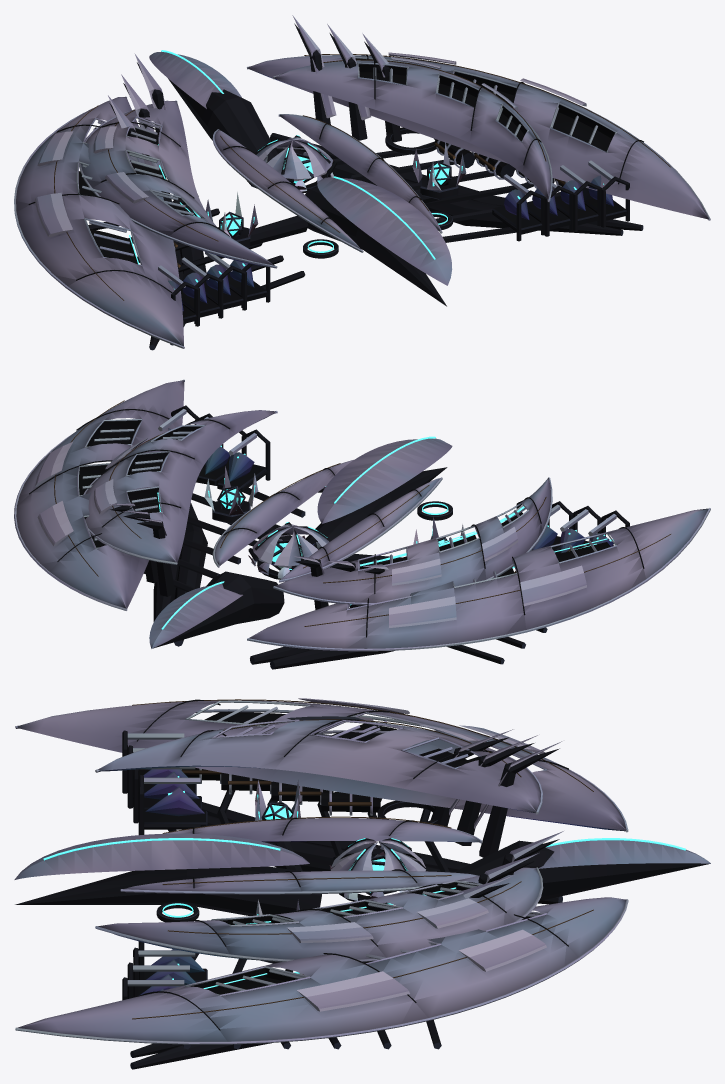
Rendered from the-veil-v2-carrier.glb.
The picture shows the model from 3 angles, top to bottom: view 1: azimuth 30°, elevation 25°; view 2: azimuth 150°, elevation 25°; view 3: azimuth 270°, elevation 25°; orthographic projection. The views are drawn at different scales.
Parts seen in each view (by area): view 1: veil_hull, veil_pod_right, veil_pod_left, veil_heart_shutter_3, veil_heart_shutter_0; view 2: veil_hull, veil_pod_right, veil_heart_shutter_2, veil_heart_shutter_1, veil_heart; view 3: veil_hull, veil_pod_left, veil_heart_shutter_0, veil_heart_shutter_1.
Boxes of the visible parts, x1,y1,x2,y2 form: veil_hull: (14,15,710,350); veil_pod_right: (412,142,466,199); veil_pod_left: (205,192,258,246); veil_heart_shutter_3: (267,140,311,183); veil_heart_shutter_0: (293,140,336,177); veil_hull: (14,379,710,669); veil_pod_right: (204,466,258,524); veil_heart_shutter_2: (274,527,317,569); veil_heart_shutter_1: (248,527,292,564); veil_heart: (251,539,329,579); veil_hull: (14,698,710,1069); veil_pod_left: (255,780,301,844); veil_heart_shutter_0: (331,842,377,870); veil_heart_shutter_1: (379,842,425,871).
Bounding box in the file's own units: 17.34 × 3.96 × 15.3.
